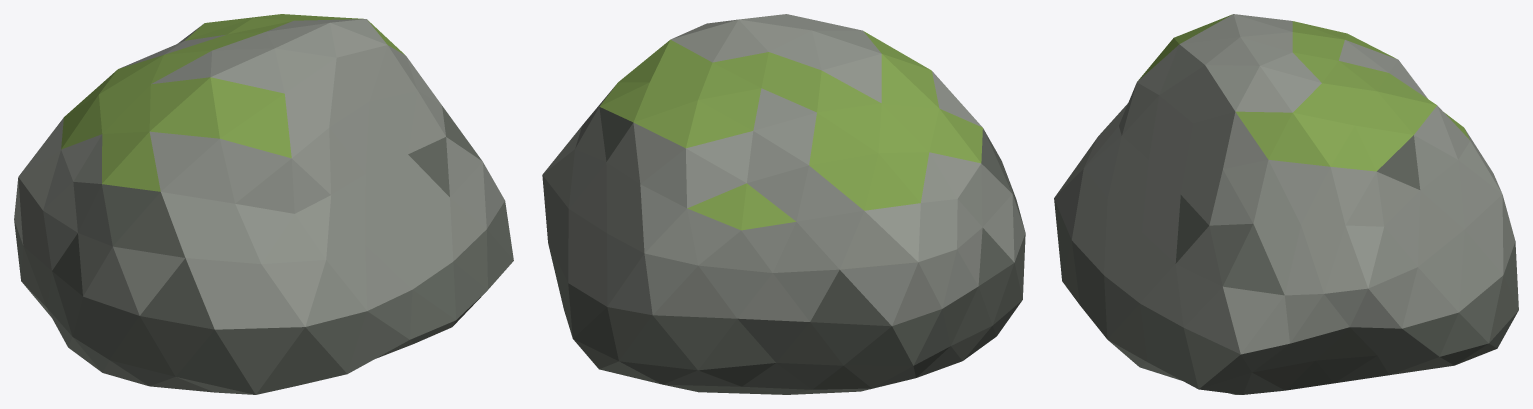
The model's file is Rock_Large.fbx.
3 views of the same model, side by side, from view 1: azimuth 30°, elevation 25°; view 2: azimuth 150°, elevation 25°; view 3: azimuth 270°, elevation 25° (orthographic). The views are drawn at different scales.
Visible parts, largest first — view 1: Rock_Large.001; view 2: Rock_Large.001; view 3: Rock_Large.001.
Boxes of the visible parts, x1=… form: Rock_Large.001: x1=14, y1=14, x2=513, y2=394; Rock_Large.001: x1=542, y1=14, x2=1025, y2=394; Rock_Large.001: x1=1054, y1=14, x2=1518, y2=394.
Size of the model in its own units: 2.75 by 1.88 by 2.6.
